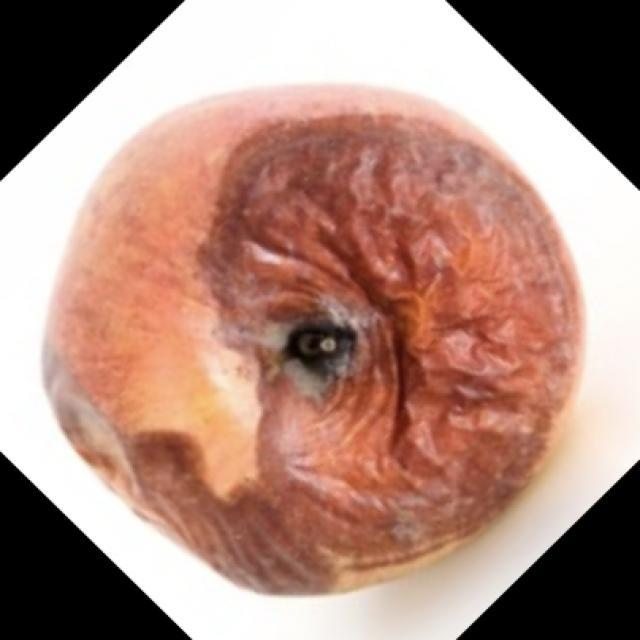Rotten: (87, 81, 568, 592)
